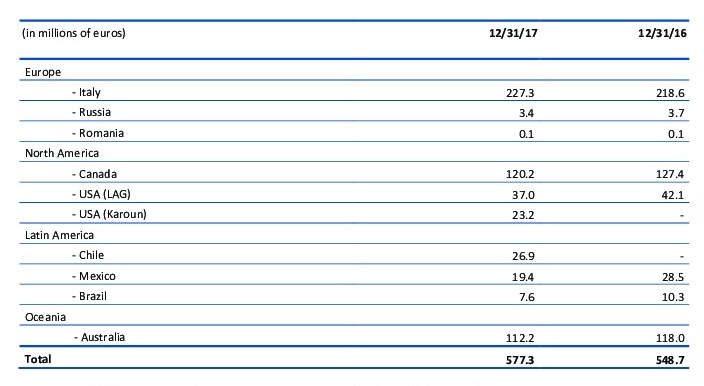table: (0, 0, 704, 386)
